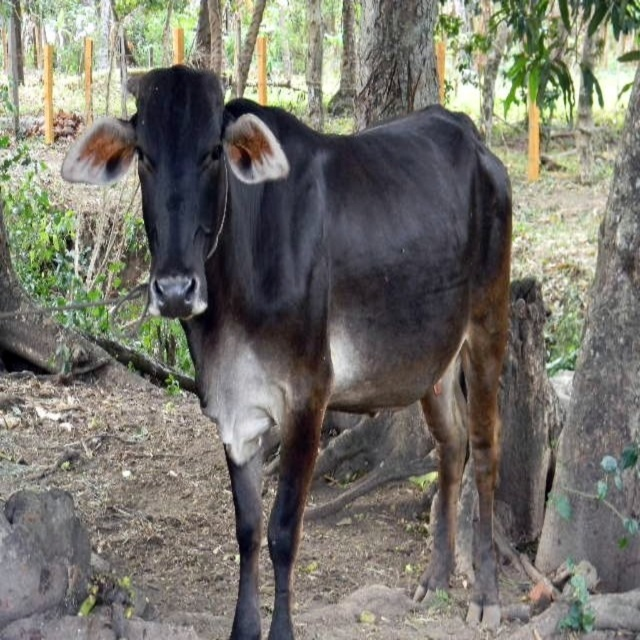Cattle: (62, 64, 512, 640)
